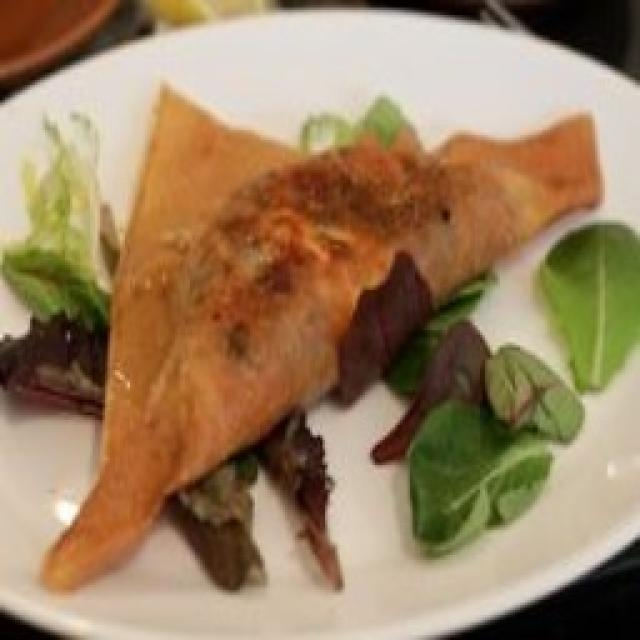Brik: (40, 88, 602, 595)
